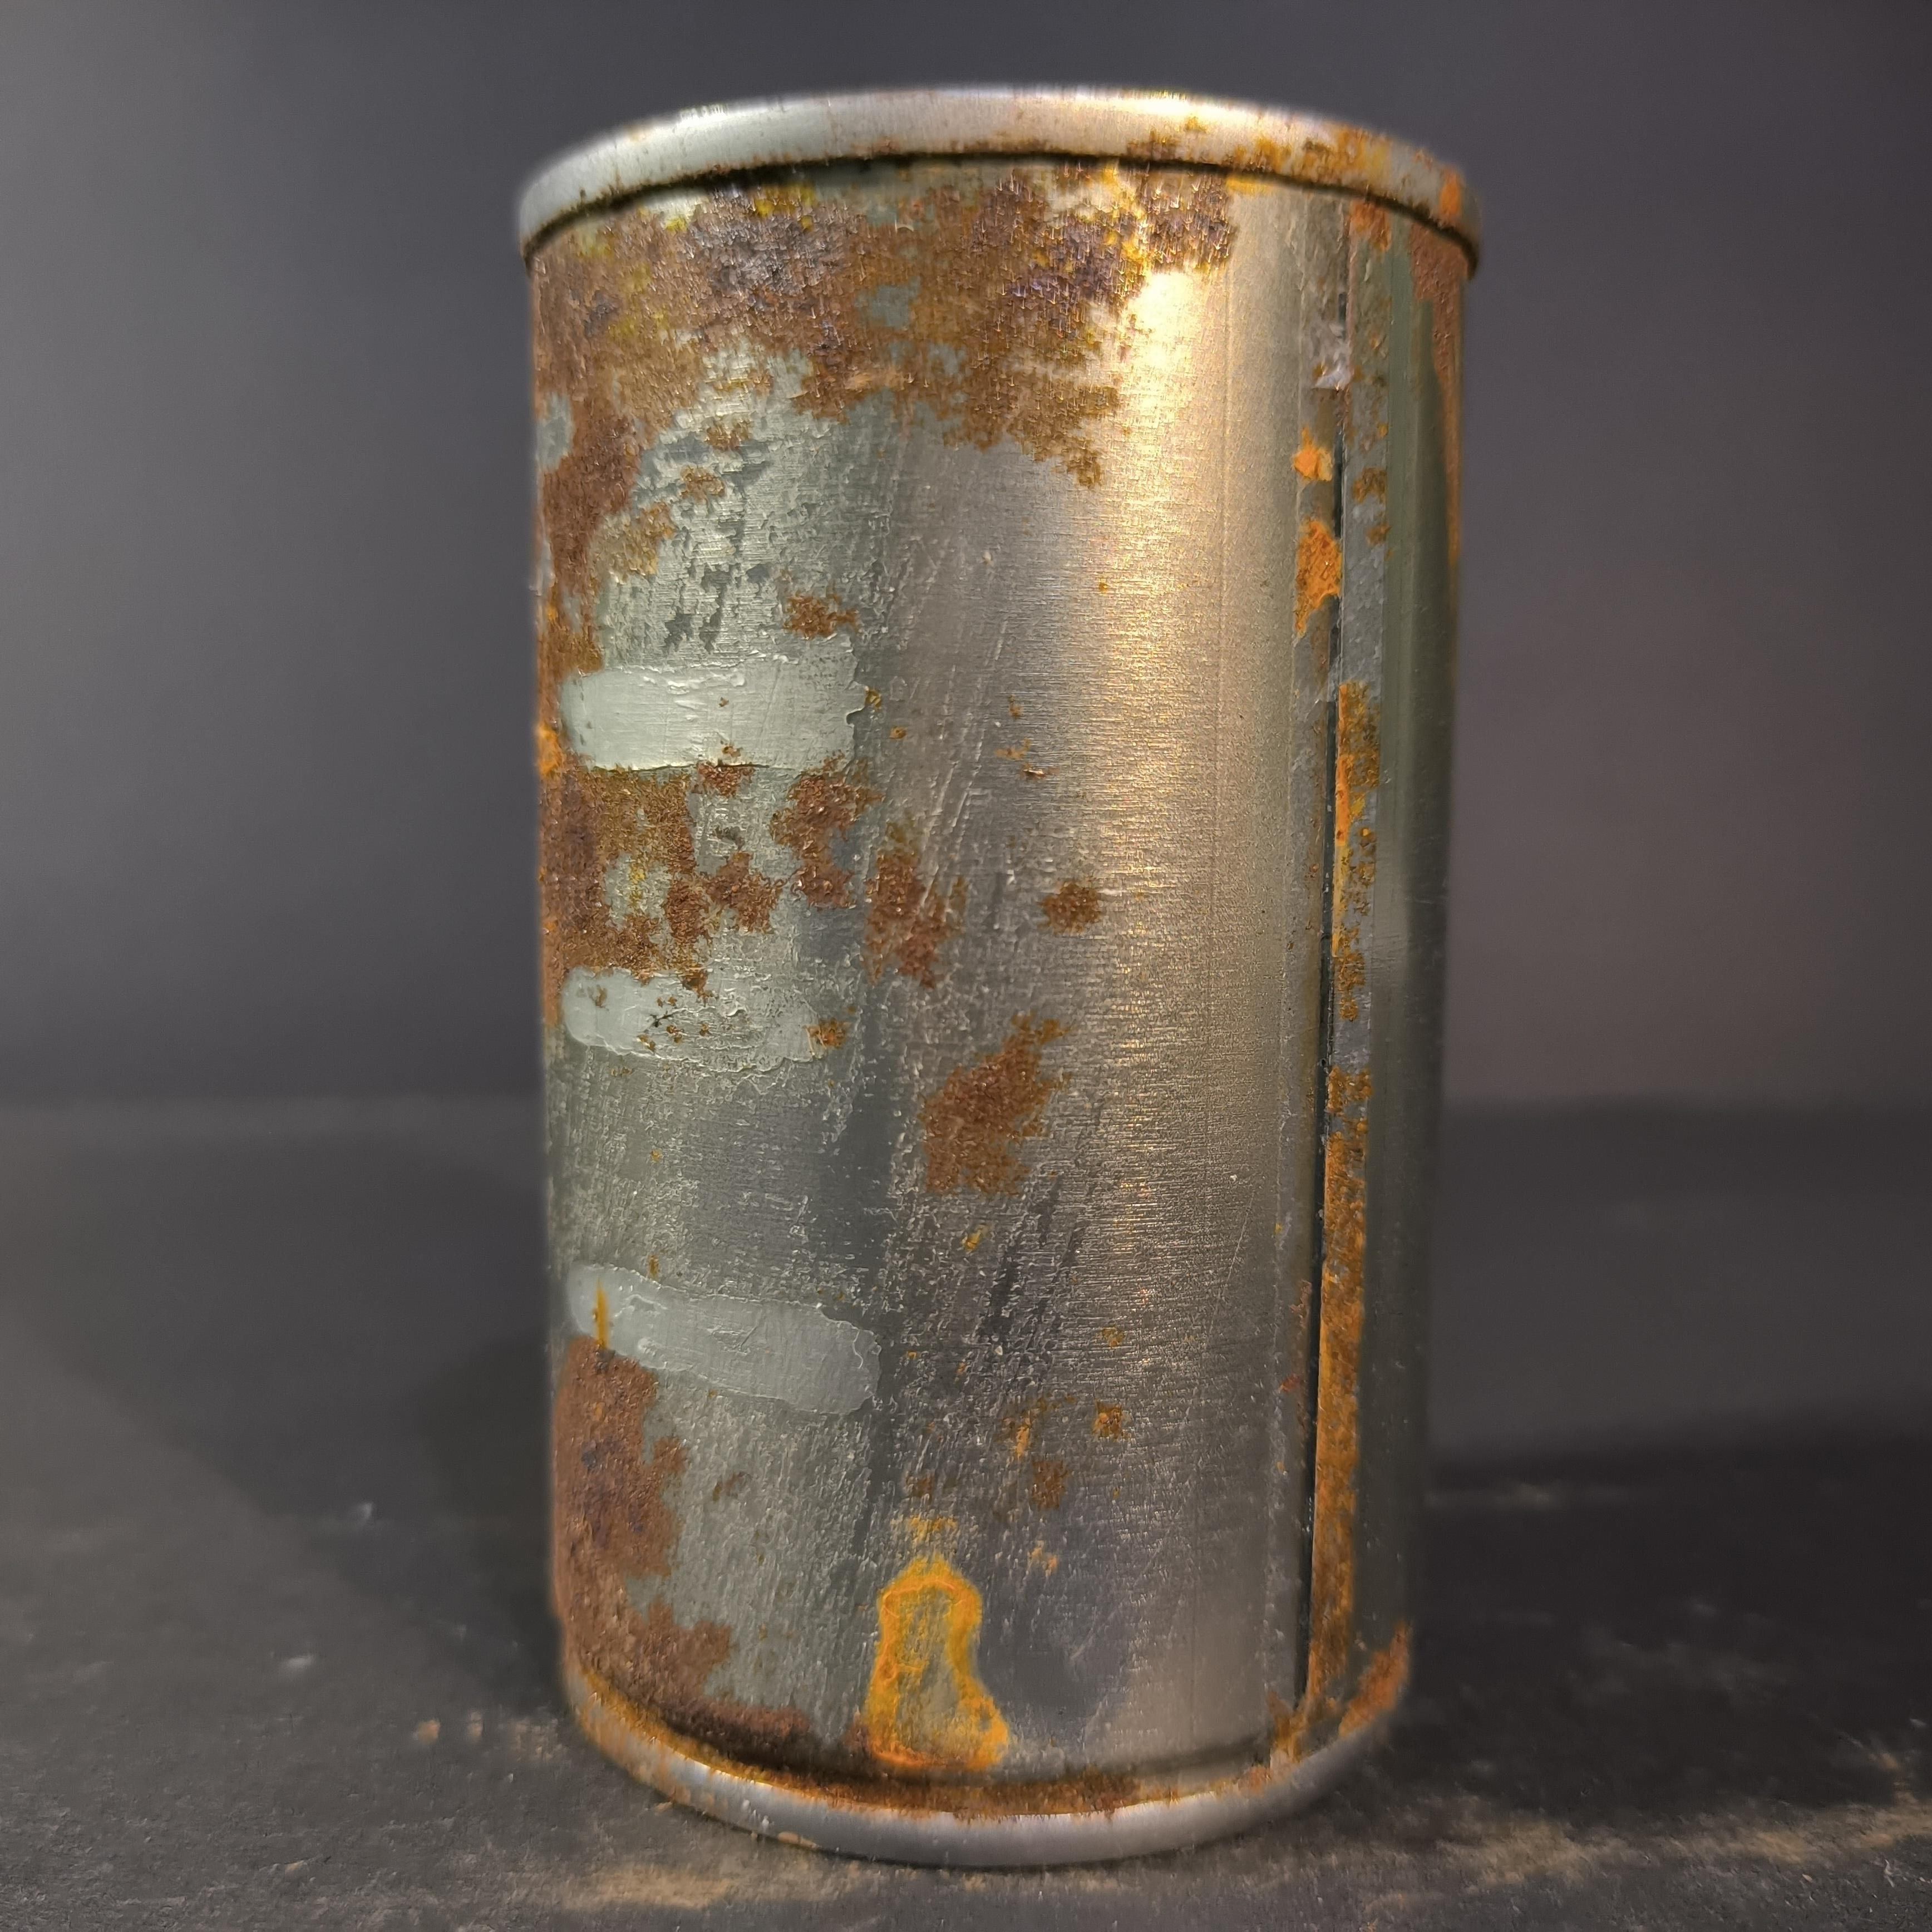Rusted: (492, 62, 1502, 1932)
